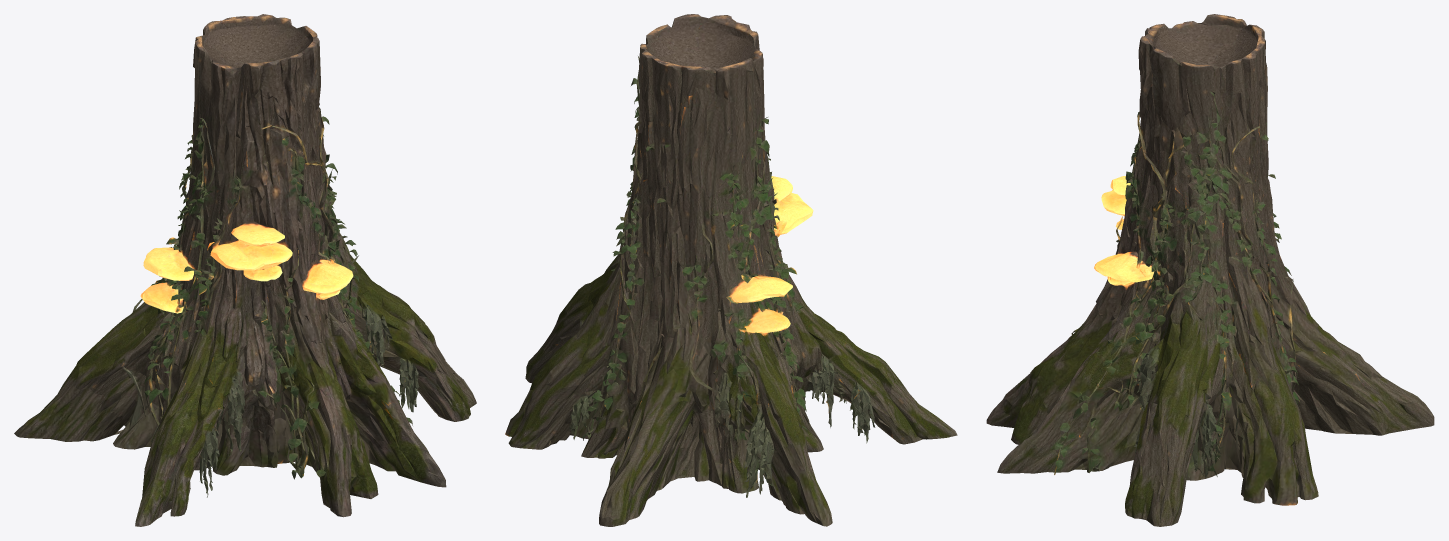
File: sp_mtree_1.glb
3 renders of one model, left to right at view 1: azimuth 30°, elevation 25°; view 2: azimuth 150°, elevation 25°; view 3: azimuth 270°, elevation 25°, orthographic.
Parts seen in each view (by area): view 1: Mesh_0; view 2: Mesh_0; view 3: Mesh_0.
Boxes of the visible parts, x1,y1,x2,y2 form: Mesh_0: (14,14,476,526); Mesh_0: (505,14,957,526); Mesh_0: (986,14,1434,526).
Size of the model in its own units: 1.88 by 1.87 by 1.89.
Materials: 1 (1 with a texture image).
